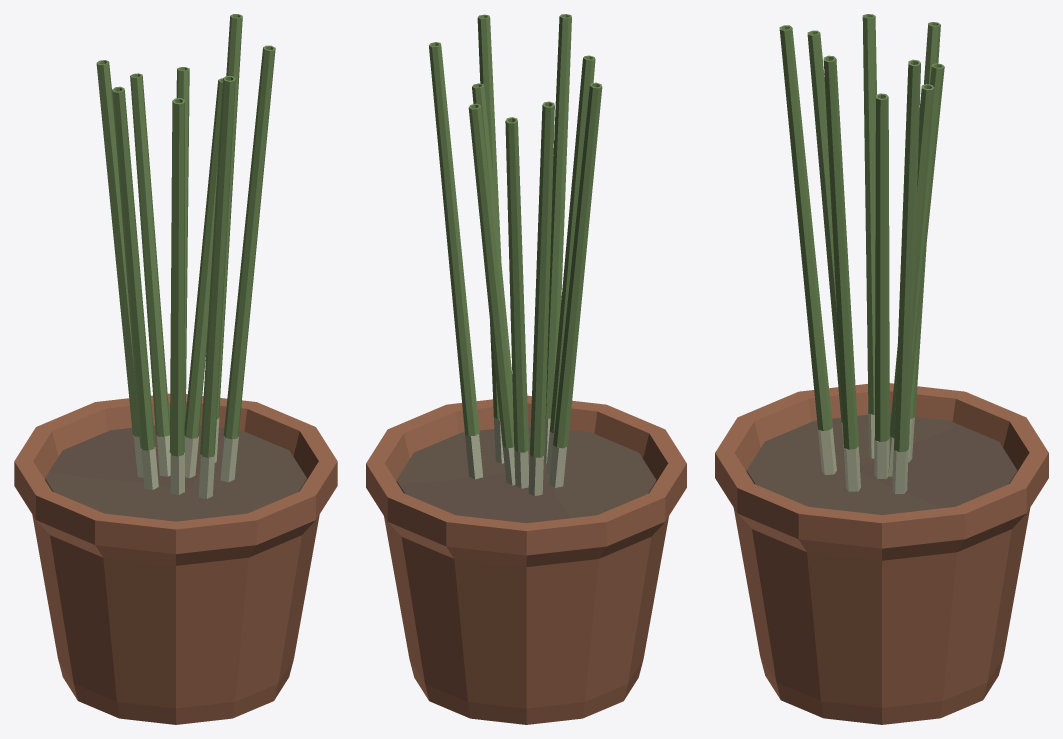
The model's file is grass.glb.
The picture shows the model from 3 angles, left to right: view 1: azimuth 30°, elevation 25°; view 2: azimuth 150°, elevation 25°; view 3: azimuth 270°, elevation 25°; orthographic projection. The views are drawn at different scales.
Parts seen in each view (by area): view 1: grass/review-terra-vessel, grass/review-rooted-soil, grass/hollow-tubular-leaf-012, grass/hollow-tubular-leaf-006, grass/hollow-tubular-leaf-010, grass/hollow-tubular-leaf-014, grass/hollow-tubular-leaf-016, grass/hollow-tubular-leaf-002, grass/hollow-tubular-leaf-004, grass/hollow-tubular-leaf-018, grass/hollow-tubular-leaf-008, grass/white-sheath-011 (+3 smaller); view 2: grass/review-terra-vessel, grass/review-rooted-soil, grass/hollow-tubular-leaf-018, grass/hollow-tubular-leaf-010, grass/hollow-tubular-leaf-004, grass/hollow-tubular-leaf-006, grass/hollow-tubular-leaf-008, grass/hollow-tubular-leaf-014, grass/hollow-tubular-leaf-016, grass/hollow-tubular-leaf-012, grass/hollow-tubular-leaf-002, grass/white-sheath-017 (+3 smaller); view 3: grass/review-terra-vessel, grass/review-rooted-soil, grass/hollow-tubular-leaf-006, grass/hollow-tubular-leaf-012, grass/hollow-tubular-leaf-018, grass/hollow-tubular-leaf-002, grass/hollow-tubular-leaf-010, grass/hollow-tubular-leaf-016, grass/hollow-tubular-leaf-008, grass/hollow-tubular-leaf-014, grass/hollow-tubular-leaf-004, grass/white-sheath-005 (+3 smaller).
Part boxes in pixels (x1,y1,x2,y2): grass/review-terra-vessel: (14, 393, 337, 724); grass/review-rooted-soil: (45, 425, 306, 521); grass/hollow-tubular-leaf-012: (223, 45, 275, 439); grass/hollow-tubular-leaf-006: (200, 76, 235, 457); grass/hollow-tubular-leaf-010: (112, 86, 154, 450); grass/hollow-tubular-leaf-014: (130, 73, 169, 436); grass/hollow-tubular-leaf-016: (169, 98, 184, 456); grass/hollow-tubular-leaf-002: (184, 78, 222, 438); grass/hollow-tubular-leaf-004: (96, 60, 139, 436); grass/hollow-tubular-leaf-018: (217, 14, 242, 419); grass/hollow-tubular-leaf-008: (176, 67, 189, 424); grass/white-sheath-011: (220, 436, 238, 482); grass/review-terra-vessel: (366, 395, 686, 724); grass/review-rooted-soil: (396, 425, 656, 523); grass/hollow-tubular-leaf-018: (429, 42, 479, 435); grass/hollow-tubular-leaf-010: (553, 82, 602, 448); grass/hollow-tubular-leaf-004: (530, 101, 554, 457); grass/hollow-tubular-leaf-006: (545, 14, 571, 418); grass/hollow-tubular-leaf-008: (468, 103, 514, 447); grass/hollow-tubular-leaf-014: (505, 117, 528, 452); grass/hollow-tubular-leaf-016: (549, 55, 595, 433); grass/hollow-tubular-leaf-012: (477, 14, 501, 418); grass/hollow-tubular-leaf-002: (472, 83, 512, 402); grass/white-sheath-017: (465, 434, 482, 479); grass/review-terra-vessel: (715, 383, 1048, 724); grass/review-rooted-soil: (746, 414, 1017, 514); grass/hollow-tubular-leaf-006: (779, 25, 832, 430); grass/hollow-tubular-leaf-012: (823, 55, 858, 449); grass/hollow-tubular-leaf-018: (894, 59, 920, 451); grass/hollow-tubular-leaf-002: (875, 93, 889, 441); grass/hollow-tubular-leaf-010: (862, 14, 876, 414); grass/hollow-tubular-leaf-016: (807, 30, 842, 422); grass/hollow-tubular-leaf-008: (890, 84, 934, 438); grass/hollow-tubular-leaf-014: (910, 63, 944, 398); grass/hollow-tubular-leaf-004: (910, 22, 940, 418); grass/white-sheath-005: (817, 428, 836, 474).
Bounding box in the file's own units: 0.19 × 0.4093 × 0.19.
4 materials, 4 textured.
